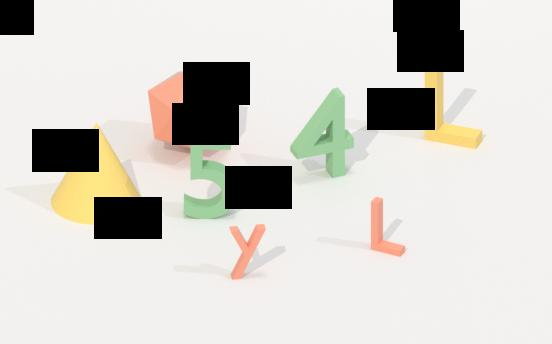5: (181, 125, 239, 225)
6: (288, 81, 356, 180)
Y: (229, 222, 270, 287)
dagiac: (148, 69, 233, 149)
l: (418, 48, 485, 150), (368, 192, 408, 260)
non: (45, 121, 146, 227)
